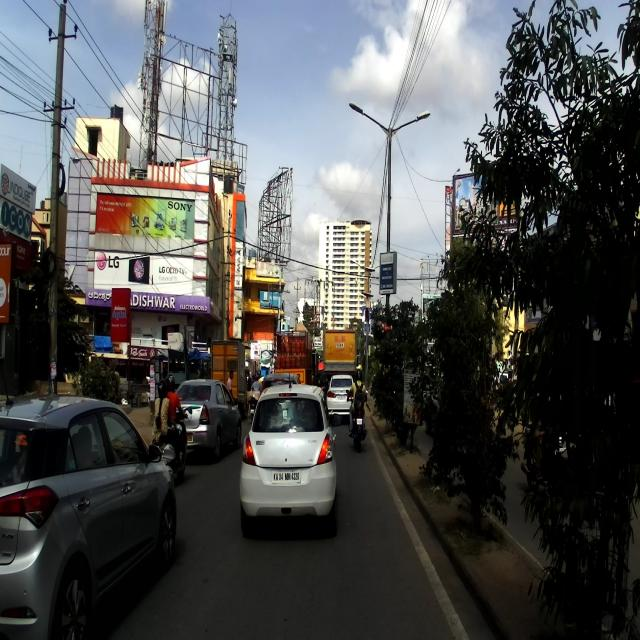Car_Hyundai: (0, 395, 177, 639)
Car_Maruti-Suzuki: (239, 371, 338, 537)
Car_Toyota: (172, 377, 242, 460)
truck: (323, 325, 359, 375)
